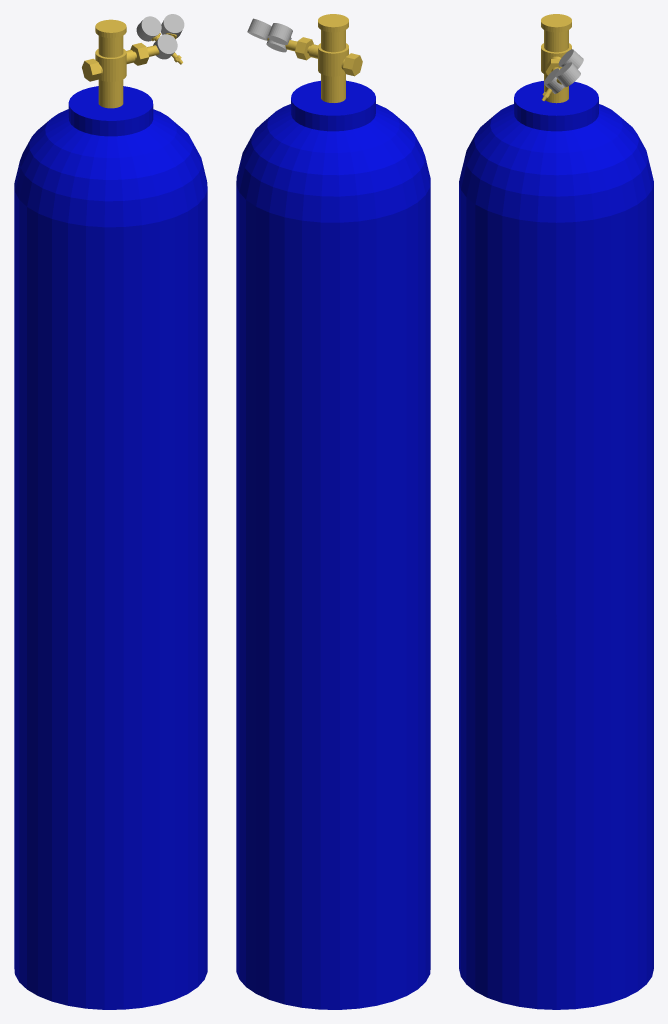
File: oxygen_tank.fbx
The picture shows the model from 3 angles, left to right: view 1: azimuth 30°, elevation 25°; view 2: azimuth 150°, elevation 25°; view 3: azimuth 270°, elevation 25°; orthographic projection.
Parts seen in each view (by area): view 1: Cylinder, Cylinder.016, Cylinder.017, Cylinder.003, Cylinder.009; view 2: Cylinder, Cylinder.016, Cylinder.017, Cylinder.003; view 3: Cylinder, Cylinder.016, Cylinder.003.
Part boxes in pixels (x1,y1,x2,y2): Cylinder: [14, 86, 207, 1009]; Cylinder.016: [98, 36, 123, 108]; Cylinder.017: [95, 49, 126, 81]; Cylinder.003: [95, 19, 126, 37]; Cylinder.009: [136, 16, 161, 41]; Cylinder: [236, 80, 430, 1009]; Cylinder.016: [321, 30, 345, 102]; Cylinder.017: [318, 43, 348, 76]; Cylinder.003: [318, 14, 348, 32]; Cylinder: [459, 81, 653, 1009]; Cylinder.016: [544, 30, 568, 103]; Cylinder.003: [541, 14, 571, 32].
Size of the model in its own units: 22 by 118 by 22.
